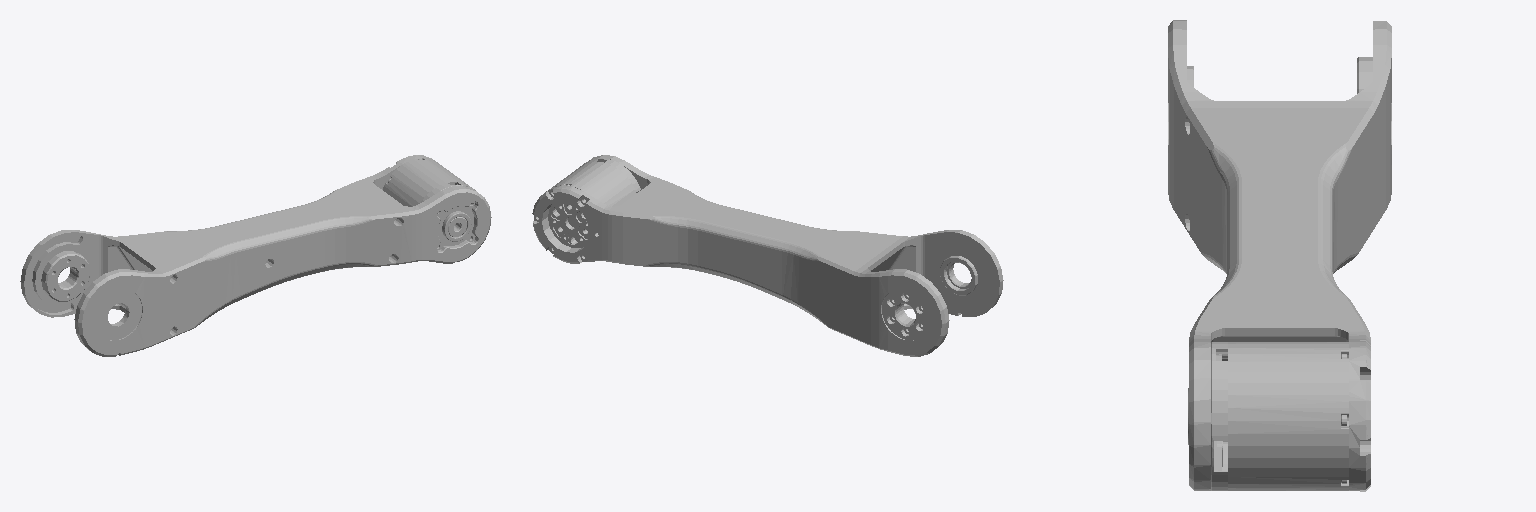
robot.urdf — y1:
<?xml version="1.0" encoding="utf-8"?>
<!-- This URDF was automatically created by SolidWorks to URDF Exporter! Originally created by [author] ([email redacted]) 
     Commit Version: 1.6.0-4-g7f85cfe  Build Version: 1.6.7995.38578
     For more information, please see http://wiki.ros.org/sw_urdf_exporter -->
<robot
  name="y1">
  <link name="world"/>
  <joint name="fixed_base_joint" type="fixed">
    <parent link="world"/>
    <child link="base_link"/>
  </joint>
  <link
    name="base_link">
    <inertial>
      <origin
        xyz="-0.000441004287981071 3.02414936219764E-07 0.0312921630081568"
        rpy="0 0 0" />
      <mass
        value="1.55068784468738" />
      <inertia
        ixx="0.06792377"
        ixy="2E-08"
        ixz="0.007424"
        iyy="0.06654524"
        iyz="-6E-08"
        izz="0.00516147" />
    </inertial>
    <visual>
      <origin
        xyz="0 0 0"
        rpy="0 0 0" />
      <geometry>
        <mesh
          filename="package://y1_description/meshes/base_link.STL" />
      </geometry>
      <material
        name="">
        <color
          rgba="0.752941176470588 0.752941176470588 0.752941176470588 1" />
      </material>
    </visual>
    <collision>
      <origin
        xyz="0 0 0"
        rpy="0 0 0" />
      <geometry>
        <mesh
          filename="package://y1_description/meshes/base_link.STL" />
      </geometry>
    </collision>
  </link>
  <link
    name="J1_Link">
    <inertial>
      <origin
        xyz="3.5964E-05 -0.00074706 0.044556"
        rpy="0 0 0" />
      <mass
        value="0.59426" />
      <inertia
        ixx="0.00718383"
        ixy="-6.54E-06"
        ixz="0.00099856"
        iyy="0.00725219"
        iyz="4.248E-05"
        izz="0.00051054" />
    </inertial>
    <visual>
      <origin
        xyz="0 0 0"
        rpy="0 0 0" />
      <geometry>
        <mesh
          filename="package://y1_description/meshes/J1_Link.STL" />
      </geometry>
      <material
        name="">
        <color
          rgba="0.75294 0.75294 0.75294 1" />
      </material>
    </visual>
    <collision>
      <origin
        xyz="0 0 0"
        rpy="0 0 0" />
      <geometry>
        <mesh
          filename="package://y1_description/meshes/J1_Link.STL" />
      </geometry>
    </collision>
  </link>
  <joint
    name="J1_JOINT"
    type="revolute">
    <origin
      xyz="0 0 0.08475"
      rpy="0 0 0" />
    <parent
      link="base_link" />
    <child
      link="J1_Link" />
    <axis
      xyz="0 0 1" />
    <limit
      lower="-2.79"
      upper="2.79"
      effort="20"
      velocity="5" />
  </joint>
  <link
    name="J2_Link">
    <inertial>
      <origin
        xyz="0.17518 0.001209 -0.00031101"
        rpy="0 0 0" />
      <mass
        value="1.1889" />
      <inertia
        ixx="0.00885602"
        ixy="-0.00014005"
        ixz="0.01712048"
        iyy="0.06321957"
        iyz="2.203E-05"
        izz="0.05550502" />
    </inertial>
    <visual>
      <origin
        xyz="0 0 0"
        rpy="0 0 0" />
      <geometry>
        <mesh
          filename="package://y1_description/meshes/J2_Link.STL" />
      </geometry>
      <material
        name="">
        <color
          rgba="0.75294 0.75294 0.75294 1" />
      </material>
    </visual>
    <collision>
      <origin
        xyz="0 0 0"
        rpy="0 0 0" />
      <geometry>
        <mesh
          filename="package://y1_description/meshes/J2_Link.STL" />
      </geometry>
    </collision>
  </link>
  <joint
    name="J2_JOINT"
    type="revolute">
    <origin
      xyz="0 0 0.055"
      rpy="-1.5708 0 0" />
    <parent
      link="J1_Link" />
    <child
      link="J2_Link" />
    <axis
      xyz="0 0 1" />
    <limit
      lower="-3.14"
      upper="0"
      effort="20"
      velocity="5" />
  </joint>
  <link
    name="J3_Link">
    <inertial>
      <origin
        xyz="-0.12313 -0.044023 0.0013381"
        rpy="0 0 0" />
      <mass
        value="0.90507" />
      <inertia
        ixx="0.00205217"
        ixy="0.00015029"
        ixz="0.00596664"
        iyy="0.0021132"
        iyz="-4.623E-05"
        izz="0.03229582" />
    </inertial>
    <visual>
      <origin
        xyz="0 0 0"
        rpy="0 0 0" />
      <geometry>
        <mesh
          filename="package://y1_description/meshes/J3_Link.STL" />
      </geometry>
      <material
        name="">
        <color
          rgba="0.75294 0.75294 0.75294 1" />
      </material>
    </visual>
    <collision>
      <origin
        xyz="0 0 0"
        rpy="0 0 0" />
      <geometry>
        <mesh
          filename="package://y1_description/meshes/J3_Link.STL" />
      </geometry>
    </collision>
  </link>
  <joint
    name="J3_JOINT"
    type="revolute">
    <origin
      xyz="0.28 0 0"
      rpy="0 0 0" />
    <parent
      link="J2_Link" />
    <child
      link="J3_Link" />
    <axis
      xyz="0 0 1" />
    <limit
      lower="0"
      upper="3.14"
      effort="20"
      velocity="5" />
  </joint>
  <link
    name="J4_Link">
    <inertial>
      <origin
        xyz="-0.056876 -0.055037 0.0037784"
        rpy="0 0 0" />
      <mass
        value="0.48247" />
      <inertia
        ixx="0.00065278"
        ixy="0.00010973"
        ixz="0.00020965"
        iyy="0.033464"
        iyz="-6.852E-05"
        izz="0.00058978" />
    </inertial>
    <visual>
      <origin
        xyz="0 0 0"
        rpy="0 0 0" />
      <geometry>
        <mesh
          filename="package://y1_description/meshes/J4_Link.STL" />
      </geometry>
      <material
        name="">
        <color
          rgba="0.75294 0.75294 0.75294 1" />
      </material>
    </visual>
    <collision>
      <origin
        xyz="0 0 0"
        rpy="0 0 0" />
      <geometry>
        <mesh
          filename="package://y1_description/meshes/J4_Link.STL" />
      </geometry>
    </collision>
  </link>
  <joint
    name="J4_JOINT"
    type="revolute">
    <origin
      xyz="-0.21401 -0.050985 0"
      rpy="0 0 0" />
    <parent
      link="J3_Link" />
    <child
      link="J4_Link" />
    <axis
      xyz="0 0 1" />
    <limit
      lower="-1.74"
      upper="1.74"
      effort="10"
      velocity="20" />
  </joint>
  <link
    name="J5_Link">
    <inertial>
      <origin
        xyz="0.00272134348699557 -1.25423697838919E-09 0.0320591095629187"
        rpy="0 0 0" />
      <mass
        value="0.378847678143443" />
      <inertia
        ixx="0.00056876"
        ixy="0"
        ixz="-2.39E-05"
        iyy="0.00056937"
        iyz="0"
        izz="0.00015494" />
    </inertial>
    <visual>
      <origin
        xyz="0 0 0"
        rpy="0 0 0" />
      <geometry>
        <mesh
          filename="package://y1_description/meshes/J5_Link.STL" />
      </geometry>
      <material
        name="">
        <color
          rgba="0.752941176470588 0.752941176470588 0.752941176470588 1" />
      </material>
    </visual>
    <collision>
      <origin
        xyz="0 0 0"
        rpy="0 0 0" />
      <geometry>
        <mesh
          filename="package://y1_description/meshes/J5_Link.STL" />
      </geometry>
    </collision>
  </link>
  <joint
    name="J5_JOINT"
    type="revolute">
    <origin
      xyz="-0.0723 -0.04549 0"
      rpy="1.5708 0 -3.0543" />
    <parent
      link="J4_Link" />
    <child
      link="J5_Link" />
    <axis
      xyz="0 0 1" />
   <limit
      lower="-1.74"
      upper="1.74"
      effort="10"
      velocity="20" />
  </joint>
  <link
    name="J6_Link">
    <inertial>
      <origin
        xyz="-0.067404 0.0004303 -0.10457"
        rpy="0 0 0" />
      <mass
        value="0.0001" />
      <inertia
        ixx="0"
        ixy="0"
        ixz="0"
        iyy="0"
        iyz="0"
        izz="0" />
    </inertial>
    <visual>
      <origin
        xyz="0 0 0"
        rpy="0 0 0" />
      <geometry>
        <mesh
          filename="package://y1_description/meshes/J6_Link.STL" />
      </geometry>
      <material
        name="">
        <color
          rgba="1 1 1 1" />
      </material>
    </visual>
    <collision>
      <origin
        xyz="0 0 0"
        rpy="0 0 0" />
      <geometry>
        <mesh
          filename="package://y1_description/meshes/J6_Link.STL" />
      </geometry>
    </collision>
  </link>
  <joint
    name="J6_JOINT"
    type="revolute">
    <origin
      xyz="0.020033 0 0.033914"
      rpy="1.5466 1.5708 1.5466" />
    <parent
      link="J5_Link" />
    <child
      link="J6_Link" />
    <axis
      xyz="0 0 1" />
    <limit
      lower="-2.61"
      upper="2.61"
      effort="10"
      velocity="20" />
  </joint>
</robot>

--- Facts derived from the render (not from the file) ---
Views: 3 orthographic renders of the robot side by side, from view 1: azimuth 30°, elevation 25°; view 2: azimuth 150°, elevation 25°; view 3: azimuth 270°, elevation 25°.
Robot: y1 — 8 links, 7 joints (6 revolute, 1 fixed); root link world; default pose: all joints at 0.
Visible links, largest first — view 1: J2_Link; view 2: J2_Link; view 3: J2_Link.
Link boxes in pixels (<box>): J2_Link: <box>20,155,491,356</box>; J2_Link: <box>532,155,1003,356</box>; J2_Link: <box>1168,20,1391,491</box>.
Bounding box of the posed robot: 0.341 × 0.085 × 0.065 m (x, y, z).
Meshes: 7 distinct files referenced, 1 mesh visuals loaded (1 binary STL); not drawn: 5 (reference not matched to a file when rendering), 1 (file found but could not be loaded).